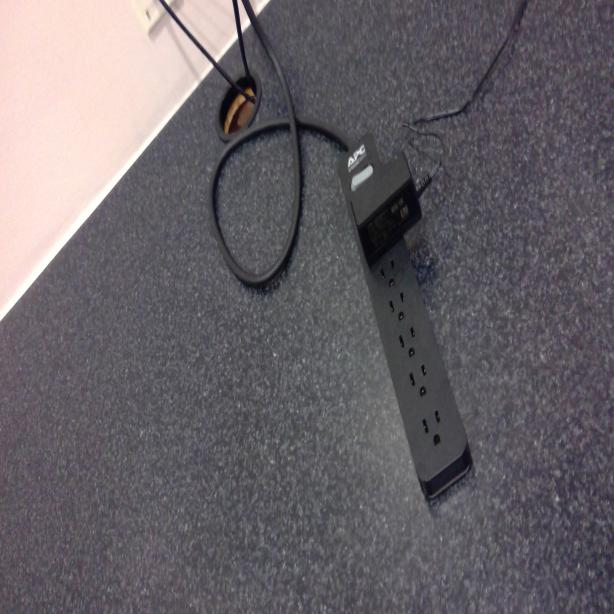typeb: (414, 404, 446, 450), (405, 359, 430, 402), (394, 323, 418, 360), (384, 290, 409, 324), (376, 256, 400, 289)
